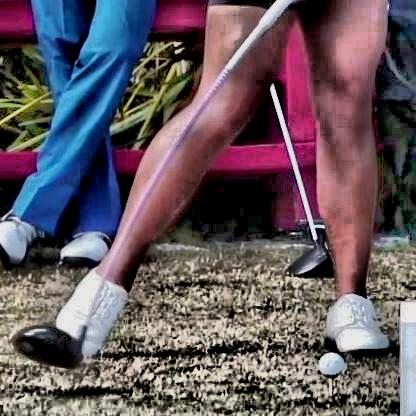golfball: (314, 350, 343, 376)
